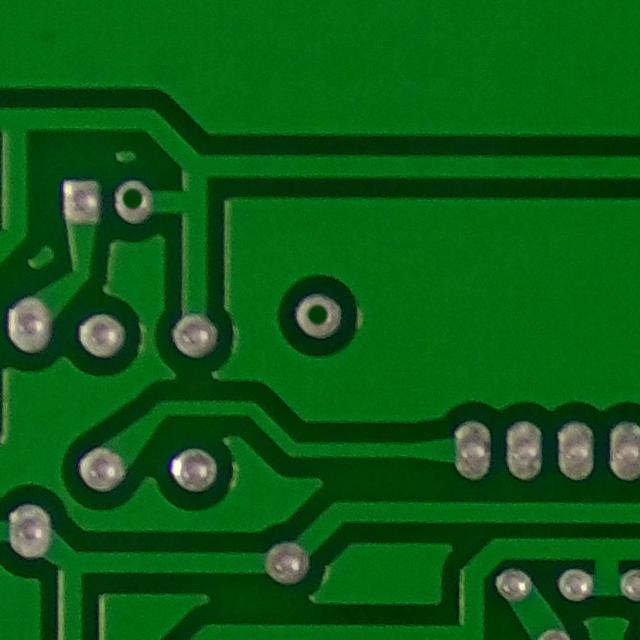missing_hole: (108, 173, 157, 228), (296, 288, 343, 340)
